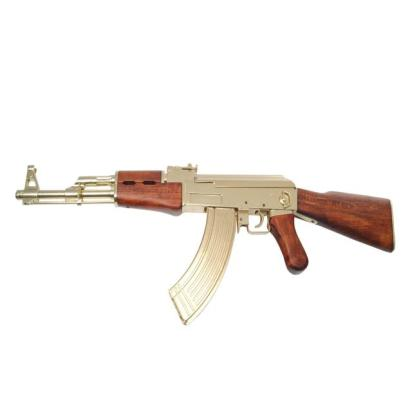Gun: (15, 160, 396, 328)
